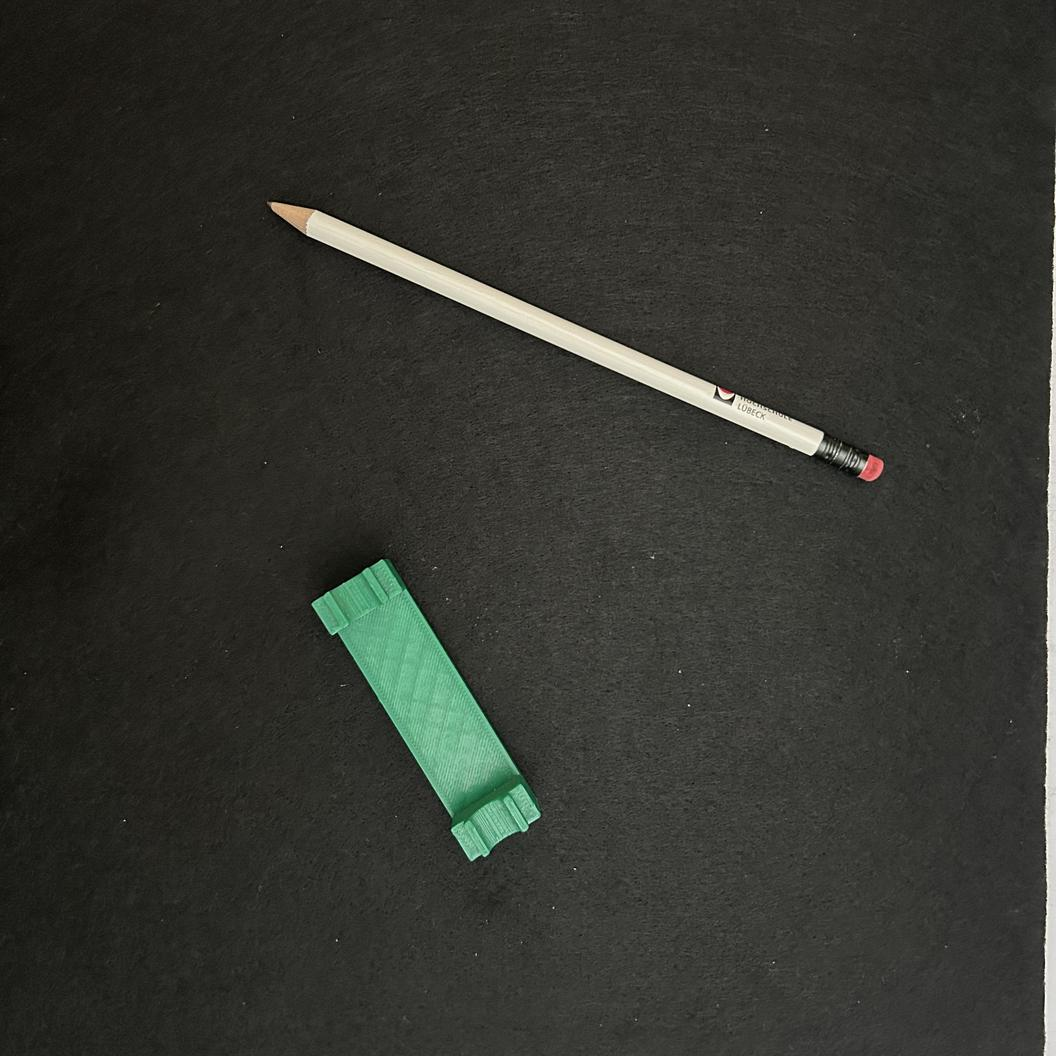holder: (308, 557, 542, 862)
pencil: (263, 196, 884, 482)
